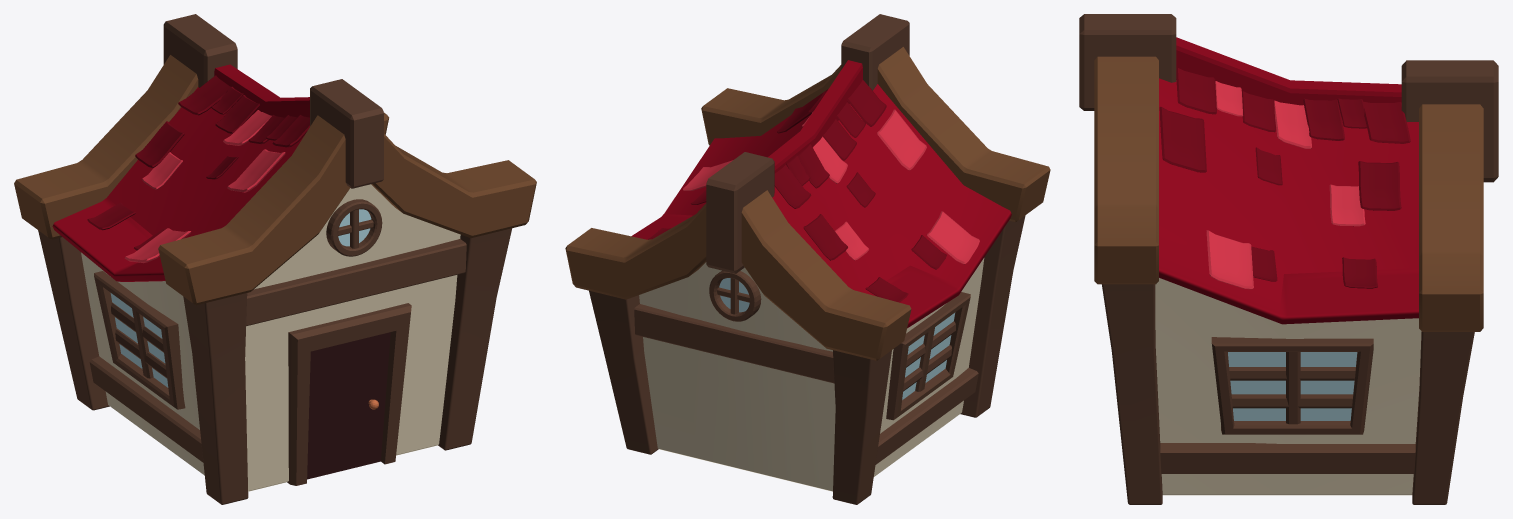
The model's file is house.fbx.
3 renders of one model, left to right at view 1: azimuth 30°, elevation 25°; view 2: azimuth 150°, elevation 25°; view 3: azimuth 270°, elevation 25°, orthographic. The views are drawn at different scales.
Visible parts, largest first — view 1: Cube, Cube.003, Cube.001, Cube.009, Cube.006, door, frame, Cube.007, Cube.002, Cube.012, Cube.004, Cube.016 (+15 smaller); view 2: Cube, Cube.009, Cube.006, Cube.003, Cube.002, Cube.017, Cube.001, Cube.005, Cube.012, Cube.004, Cube.016, Cube.008 (+15 smaller); view 3: Cube.009, Cube, Cube.003, Cube.006, Cube.012, Cube.001, Cube.016, Cube.002, Cube.005, Cube.004, Cube.008, Plane (+16 smaller).
Boxes of the visible parts, x1,y1,x2,y2 form: Cube: (81,184,460,491); Cube.003: (158,115,536,305); Cube.001: (183,228,511,504); Cube.009: (52,87,304,281); Cube.006: (14,55,389,239); door: (307,332,390,479); frame: (287,303,411,485); Cube.007: (246,239,466,325); Cube.002: (38,230,109,410); Cube.012: (94,271,185,409); Cube.004: (310,79,383,188); Cube.016: (89,356,203,462); Cube: (639,258,984,491); Cube.009: (631,84,1011,328); Cube.006: (565,190,911,360); Cube.003: (701,47,1050,221); Cube.002: (589,290,891,504); Cube.017: (634,304,834,383); Cube.001: (960,215,1025,417); Cube.005: (706,152,774,273); Cube.012: (886,292,970,420); Cube.004: (841,14,909,90); Cube.016: (875,368,978,464); Cube.008: (768,60,862,173); Cube.009: (1159,78,1418,324); Cube: (1155,278,1421,495); Cube.003: (1094,56,1158,284); Cube.006: (1419,104,1483,331); Cube.012: (1211,337,1373,434); Cube.001: (1102,284,1162,504); Cube.016: (1160,443,1415,473); Cube.002: (1412,331,1474,504); Cube.005: (1401,60,1498,182); Cube.004: (1079,14,1176,110); Cube.008: (1176,37,1401,105); Plane: (1159,106,1206,172).
Bounding box in the file's own units: 458 × 471 × 429.
